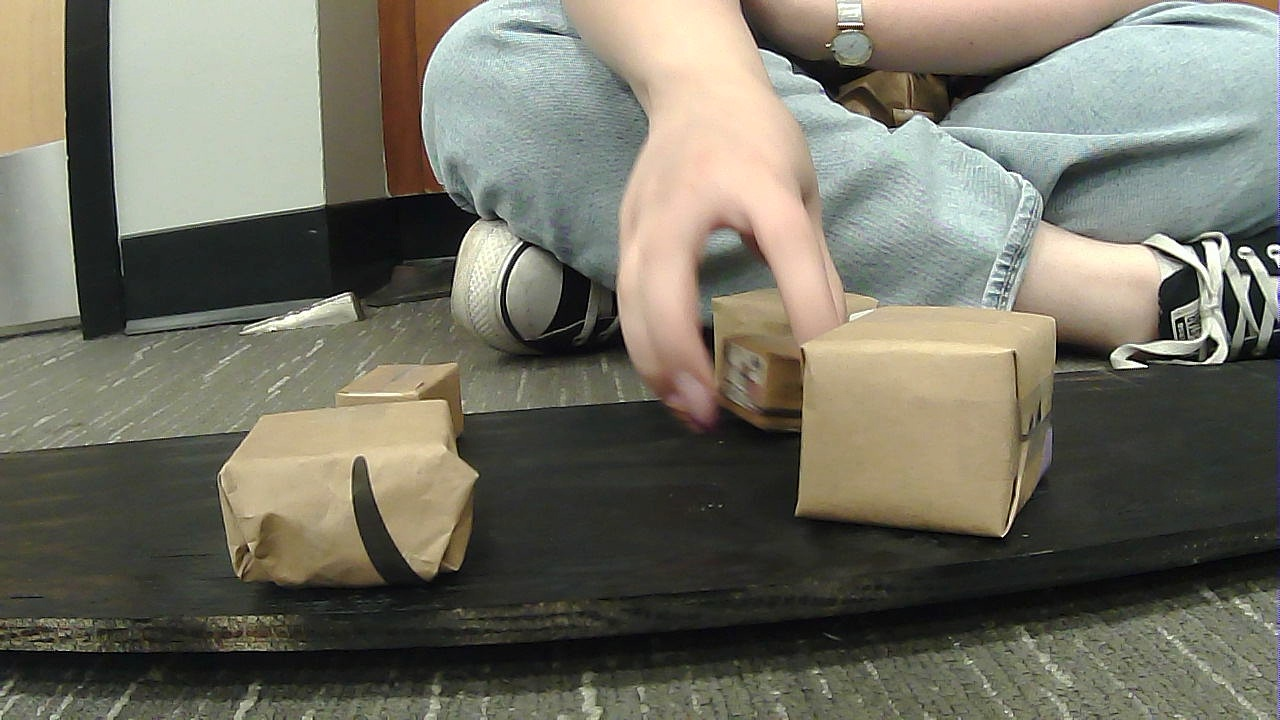package: (762, 269, 1077, 538), (191, 379, 489, 584), (709, 259, 879, 446), (336, 357, 504, 454)
